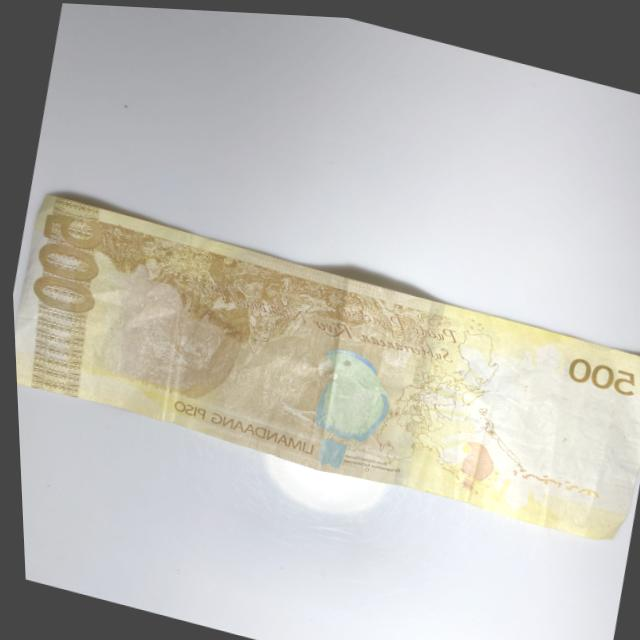500_big_parrot: (289, 332, 410, 479)
500_parrot_watermark: (440, 428, 499, 490)
value_watermark: (584, 431, 617, 470)
